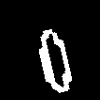chain: (39, 29, 71, 92)
